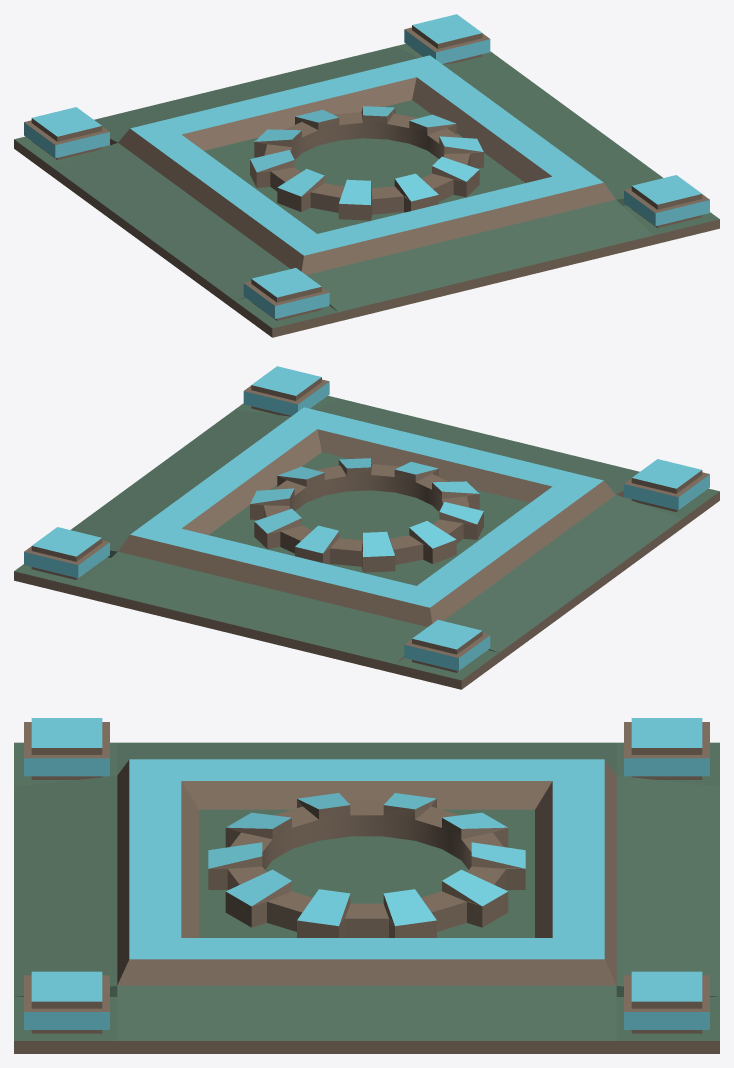
The model's file is SpawnerObject.fbx.
3 renders of one model, top to bottom at view 1: azimuth 30°, elevation 25°; view 2: azimuth 150°, elevation 25°; view 3: azimuth 270°, elevation 25°, orthographic. The views are drawn at different scales.
Parts seen in each view (by area): view 1: SpawnerBase, SpawnerRotator; view 2: SpawnerBase, SpawnerRotator; view 3: SpawnerBase, SpawnerRotator.
Boxes of the visible parts, bbox=[...] form: SpawnerBase: bbox=[14, 14, 719, 337]; SpawnerRotator: bbox=[250, 106, 483, 220]; SpawnerBase: bbox=[14, 366, 719, 689]; SpawnerRotator: bbox=[250, 458, 483, 572]; SpawnerBase: bbox=[14, 718, 719, 1053]; SpawnerRotator: bbox=[208, 793, 525, 937].
Bounding box in the file's own units: 10 × 0.8658 × 10.
